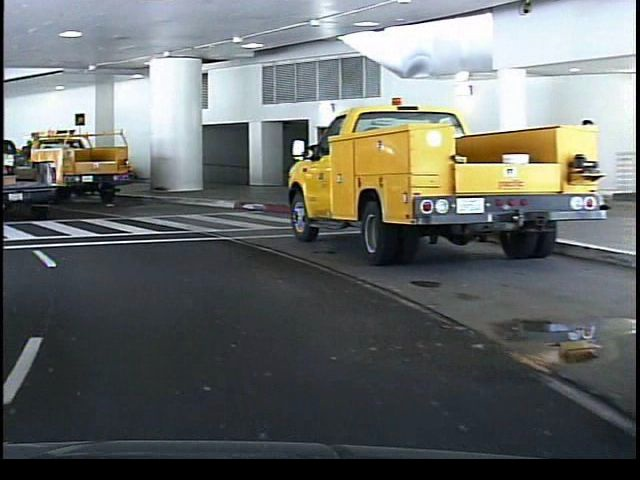person: (570, 111, 605, 218)
